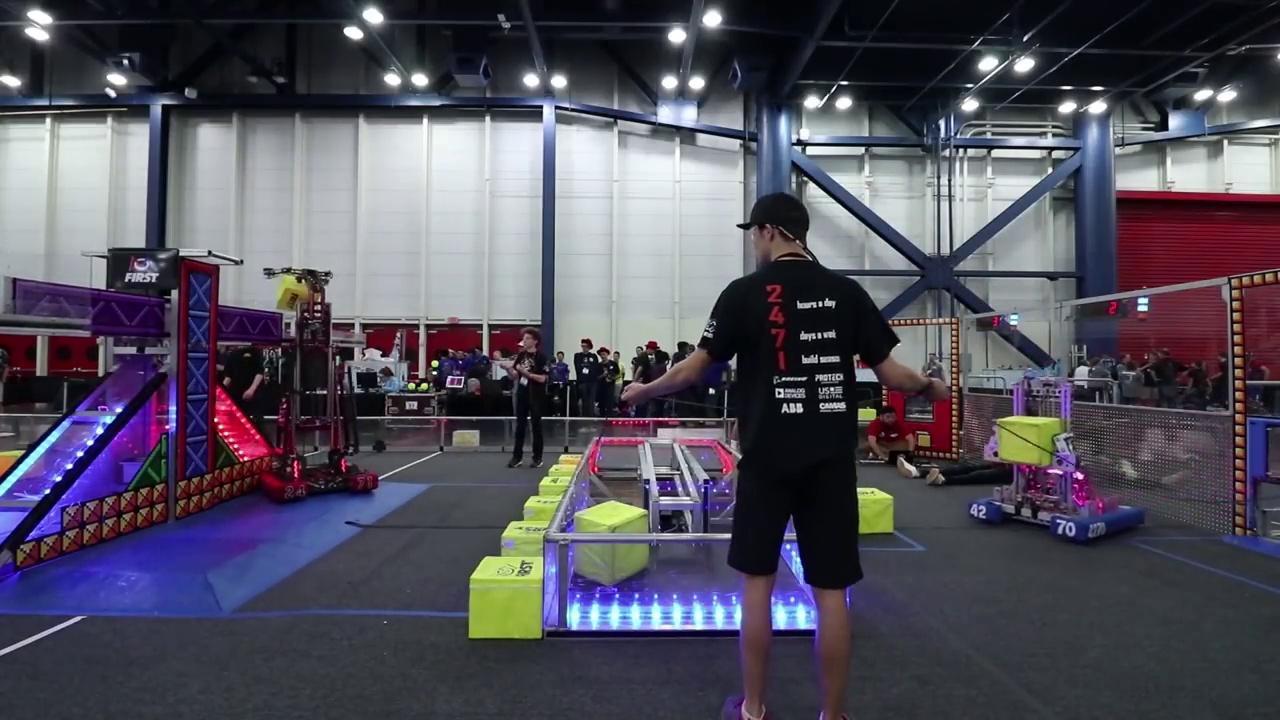robot: (235, 264, 391, 507), (965, 410, 1151, 547)
